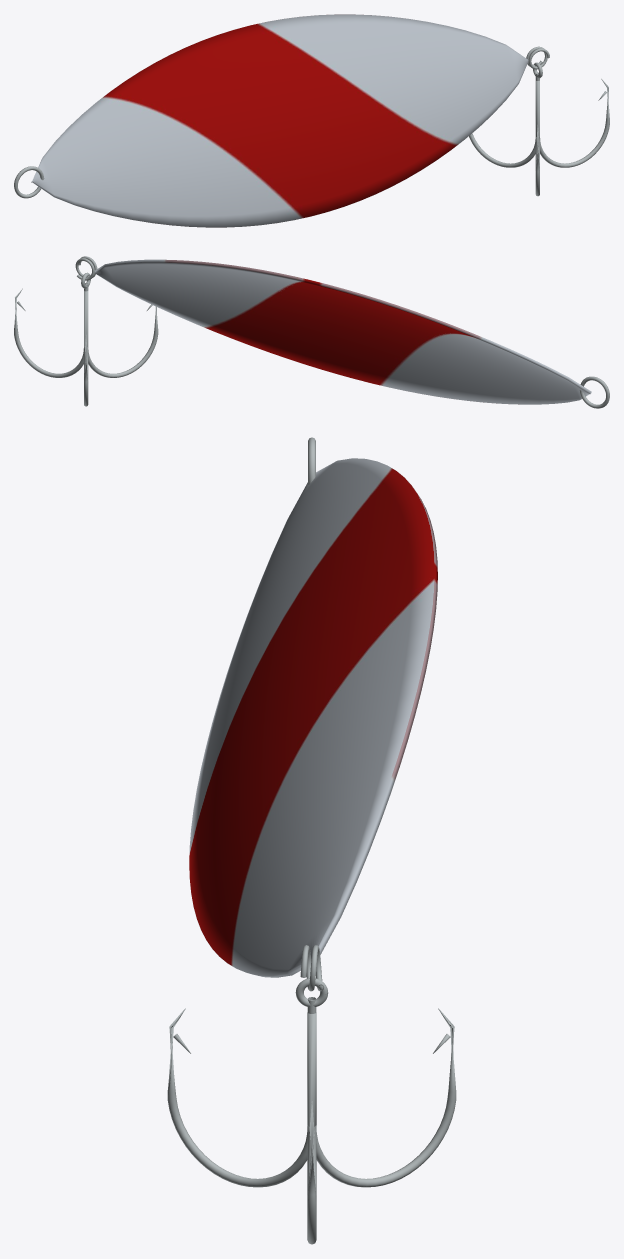
Rendered from spoon.glb.
The picture shows the model from 3 angles, top to bottom: view 1: azimuth 30°, elevation 25°; view 2: azimuth 150°, elevation 25°; view 3: azimuth 270°, elevation 25°; orthographic projection. The views are drawn at different scales.
Visible parts, largest first — view 1: spoon specimen; view 2: spoon specimen; view 3: spoon specimen.
Boxes of the visible parts, x1=… form: spoon specimen: x1=14, y1=14, x2=609, y2=227; spoon specimen: x1=14, y1=256, x2=609, y2=408; spoon specimen: x1=167, y1=437, x2=456, y2=1244.
Bounding box in the file's own units: 2.04 × 0.6215 × 0.4273.
2 materials, 1 textured.
